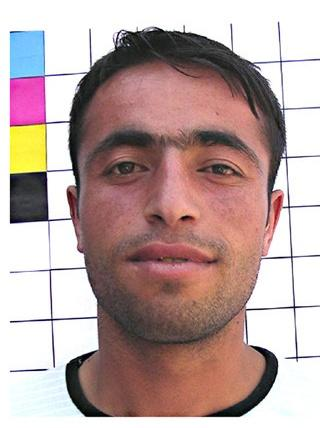No Mask: (51, 53, 304, 353)
